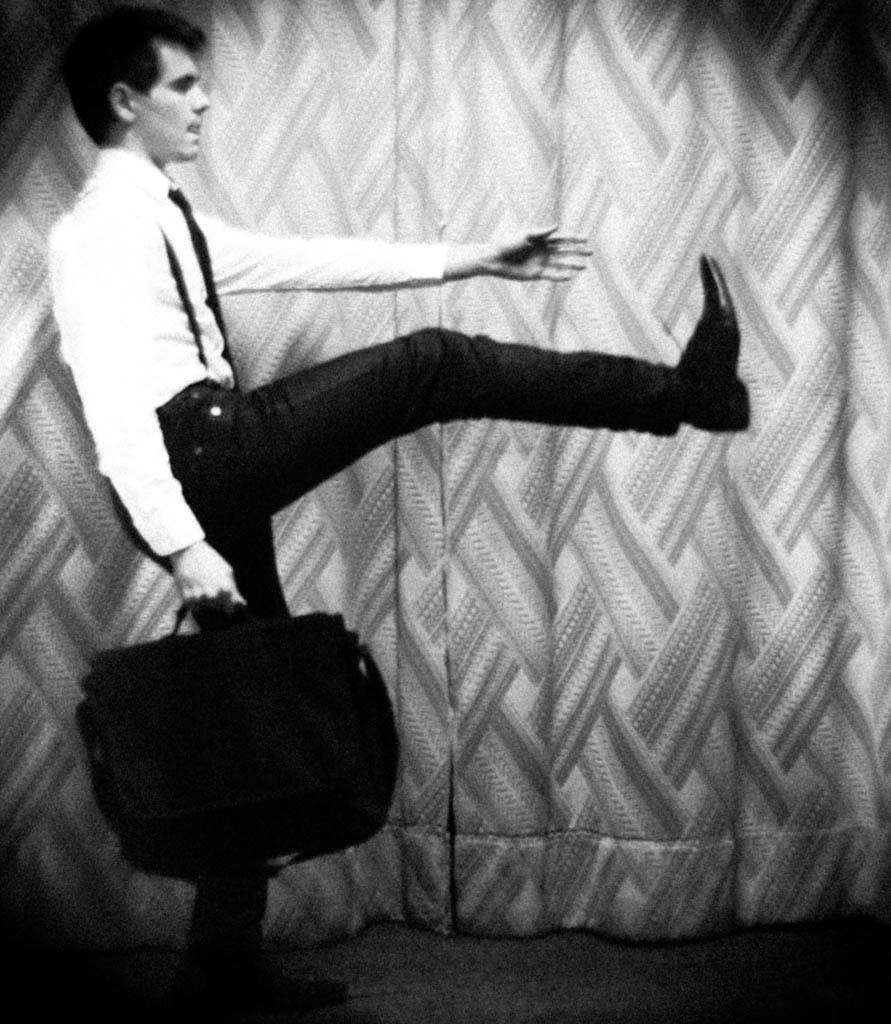Luggage-and-bags: (67, 535, 433, 902)
